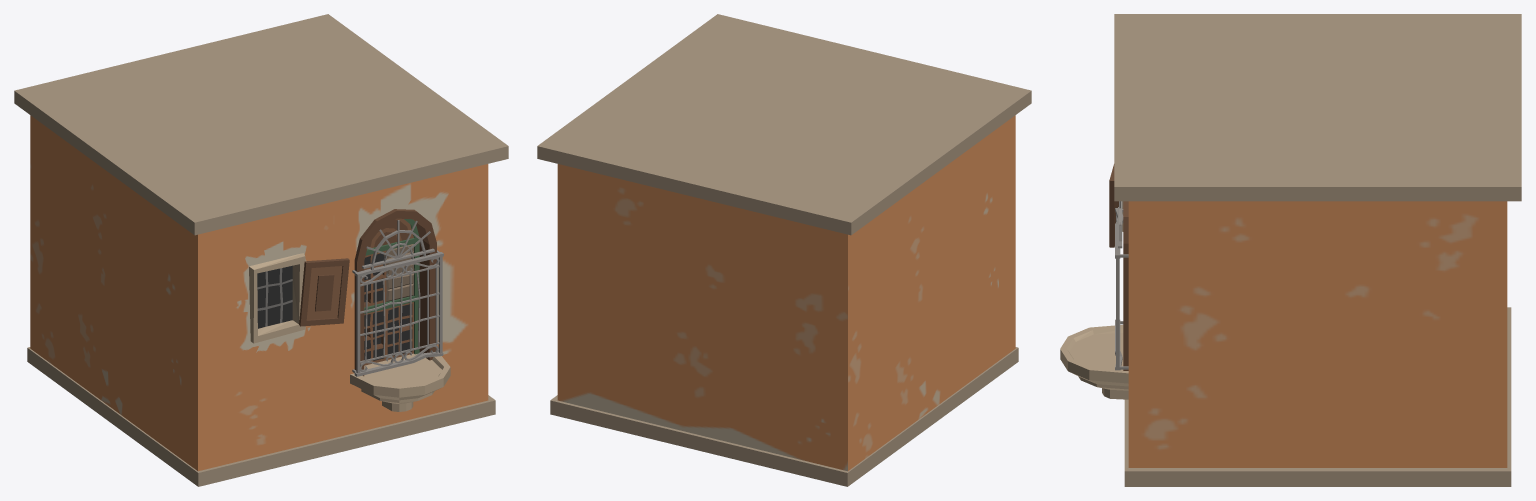
File: SM_Bld_Cuba_Room_05.glb
3 views of the same model, side by side, from view 1: azimuth 30°, elevation 25°; view 2: azimuth 150°, elevation 25°; view 3: azimuth 270°, elevation 25° (orthographic). The views are drawn at different scales.
Visible parts, largest first — view 1: SM_Bld_Cuba_Room_05_part00; view 2: SM_Bld_Cuba_Room_05_part00; view 3: SM_Bld_Cuba_Room_05_part00.
Boxes of the visible parts, x1,y1,x2,y2 form: SM_Bld_Cuba_Room_05_part00: [14, 14, 508, 486]; SM_Bld_Cuba_Room_05_part00: [537, 14, 1031, 486]; SM_Bld_Cuba_Room_05_part00: [1060, 14, 1521, 486].
Size of the model in its own units: 4.06 by 3.33 by 4.57.
1 material, 1 textured.
